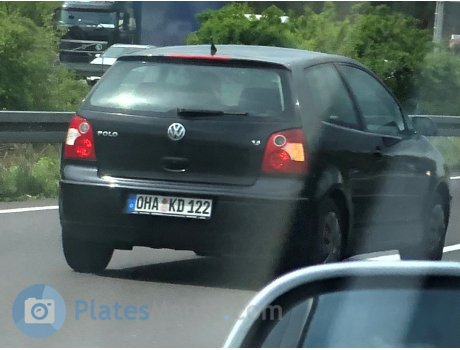License Plates: (145, 194, 211, 219)
